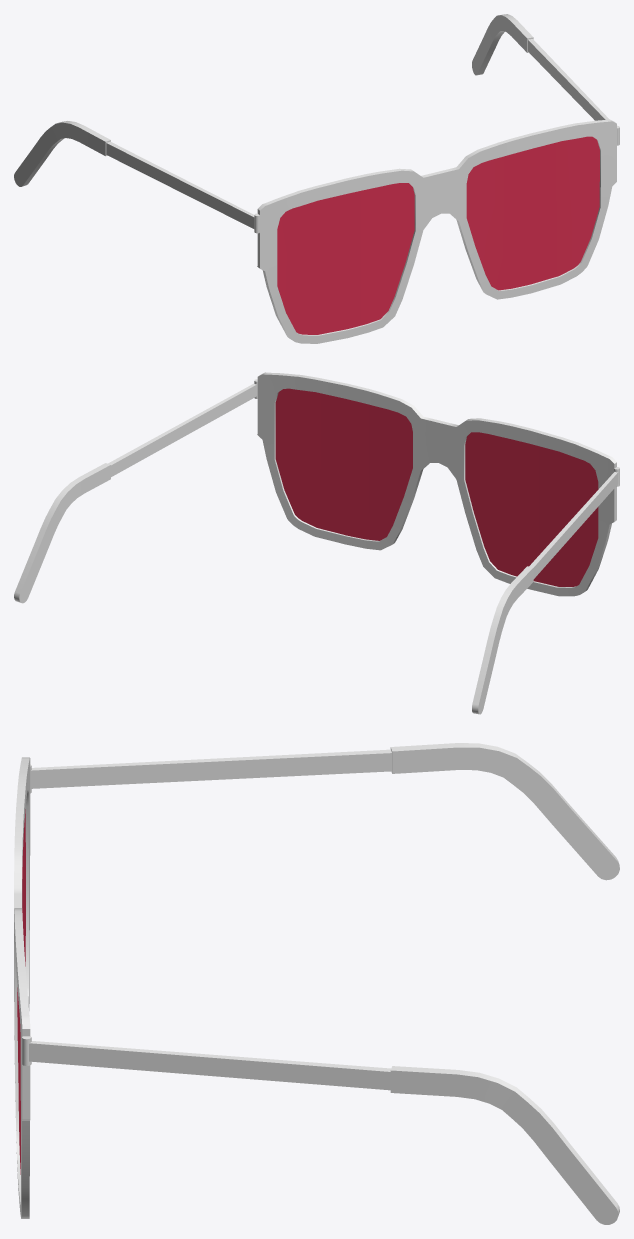
Rendered from glasses19.001.fbx.
The picture shows the model from 3 angles, top to bottom: view 1: azimuth 30°, elevation 25°; view 2: azimuth 150°, elevation 25°; view 3: azimuth 270°, elevation 25°; orthographic projection. The views are drawn at different scales.
Parts seen in each view (by area): view 1: glasses19.001; view 2: glasses19.001; view 3: glasses19.001.
Boxes of the visible parts, x1=… form: glasses19.001: x1=14, y1=14, x2=619, y2=343; glasses19.001: x1=14, y1=372, x2=619, y2=714; glasses19.001: x1=14, y1=743, x2=619, y2=1224.
Size of the model in its own units: 2.28 by 0.7419 by 1.66.
